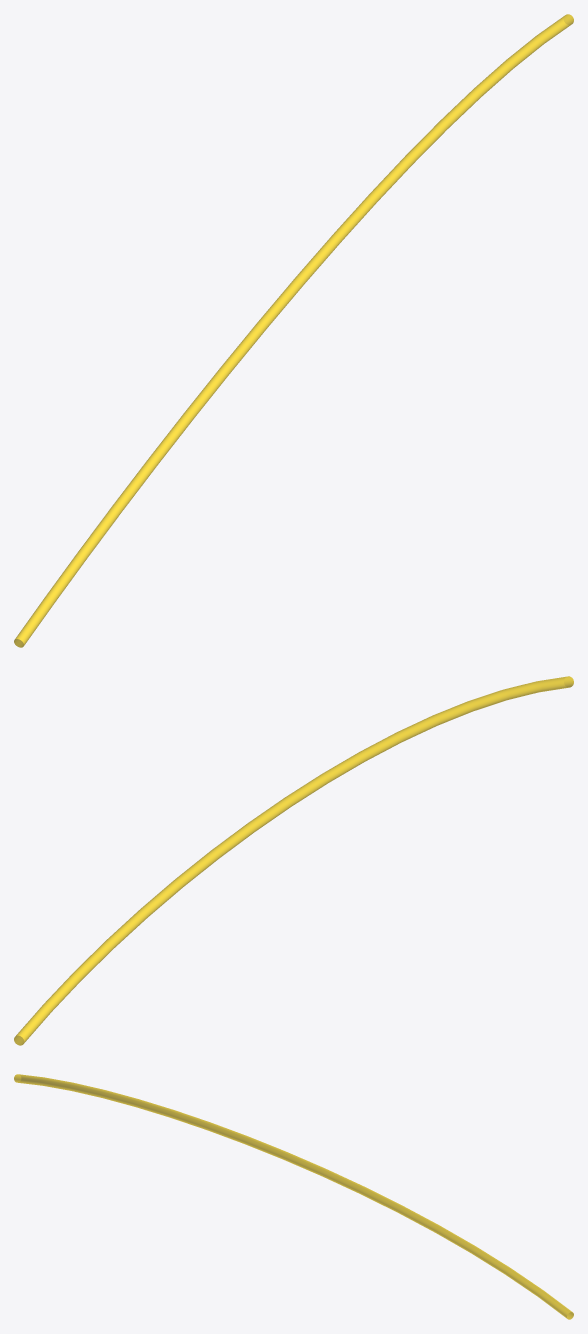
File: Event_27938768_track_18.fbx
3 views of the same model, one above another, from view 1: azimuth 30°, elevation 25°; view 2: azimuth 210°, elevation 25°; view 3: azimuth 270°, elevation 25° (orthographic). The views are drawn at different scales.
Parts seen in each view (by area): view 1: Model; view 2: Model; view 3: Model.
Part boxes in pixels (x1=…): Model: x1=14, y1=14, x2=573, y2=647; Model: x1=14, y1=676, x2=573, y2=1045; Model: x1=14, y1=1074, x2=573, y2=1319.
Bounding box in the file's own units: 3.74 × 0.5983 × 2.61.
